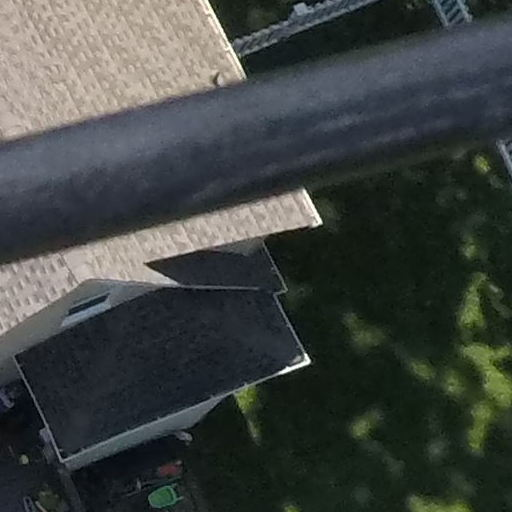container: (141, 484, 183, 510)
